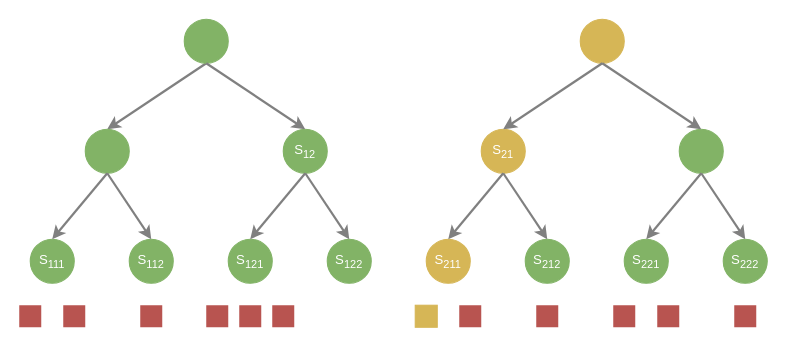
Image size: 787x347. Some labels were removed from this diagram. The centre of each missing label's shape, as x and y in pixels:
S 1: pixel 205 40
S 11: pixel 106 150
S 2: pixel 601 40
S 22: pixel 700 150
